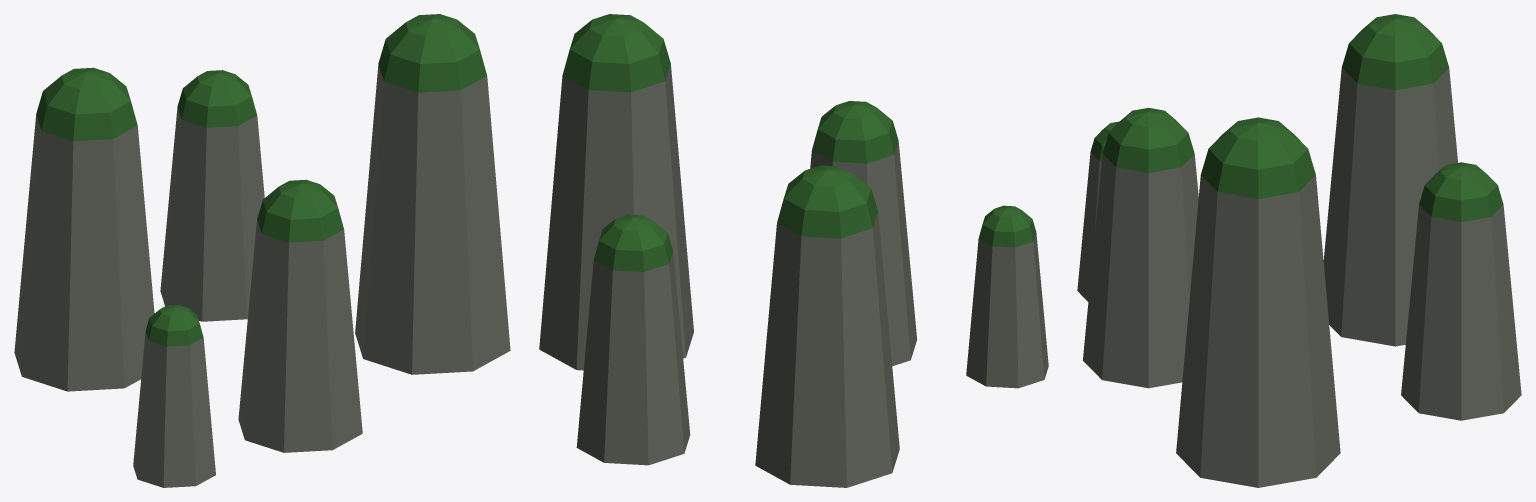
File: ha_long.glb
The picture shows the model from 3 angles, left to right: view 1: azimuth 30°, elevation 25°; view 2: azimuth 150°, elevation 25°; view 3: azimuth 270°, elevation 25°; orthographic projection. The views are drawn at different scales.
Visible parts, largest first — view 1: ha_long; view 2: ha_long; view 3: ha_long.
Part boxes in pixels (box(x1,y1,x2,y2)): ha_long: box(14, 14, 510, 487); ha_long: box(539, 14, 1048, 487); ha_long: box(1077, 14, 1521, 487).
Bounding box in the file's own units: 0.93 × 0.665 × 0.81.
